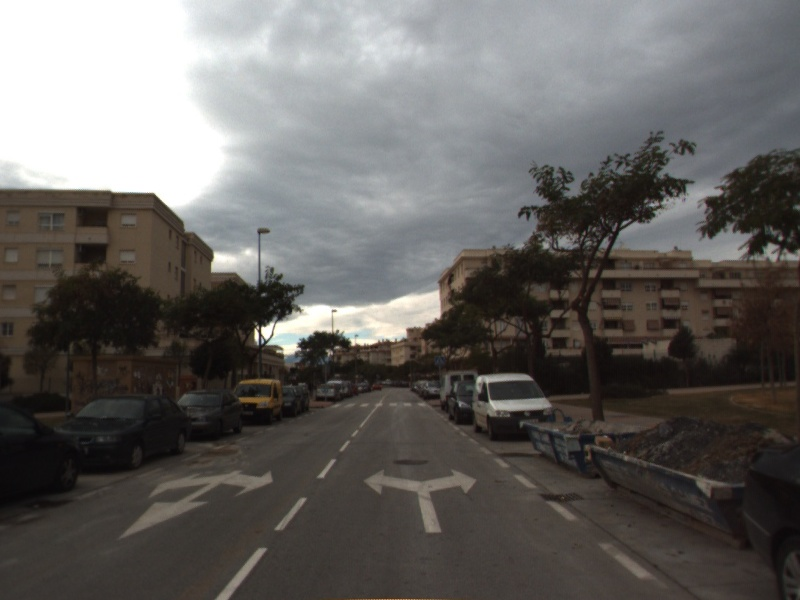LEFT_RIGHT: (361, 466, 480, 535)
